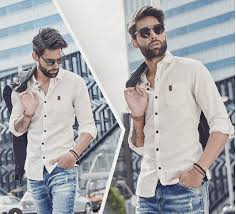Indian_Male: (132, 12, 169, 63)
